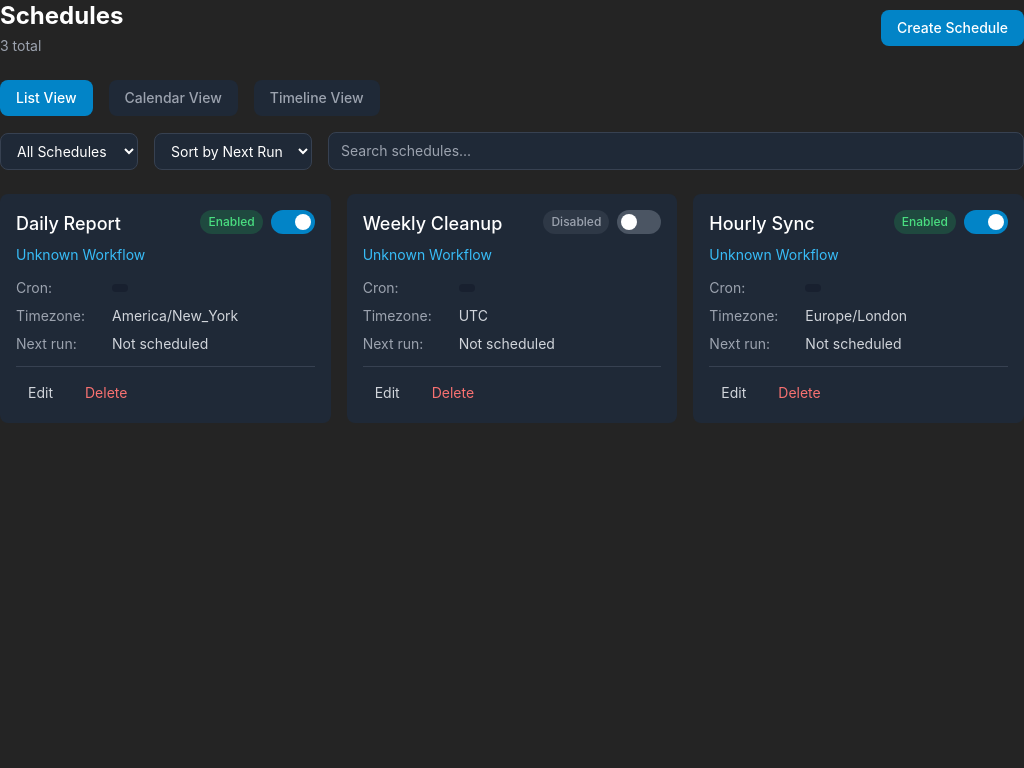
Scenario: Schedules Page Integration Tests › Delete Schedule › should show delete confirmation modal
The width and height of the screenshot is (1024, 768).
Check: the text "Daily Report" is shown, box x1=16 y1=213 x2=121 y2=234
Click the button "Delete" below "America/New_York" at [106, 393], box x1=73 y1=379 x2=139 y2=407
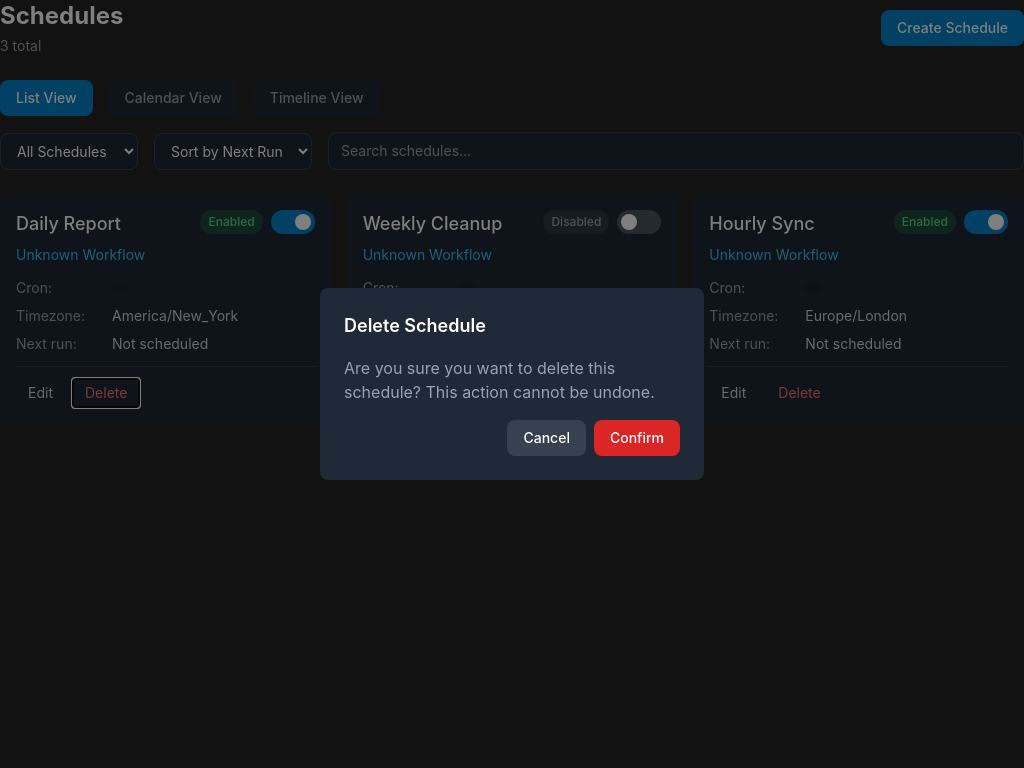
Check: the heading "Delete Schedule" is shown, box x1=344 y1=315 x2=486 y2=336
Check: the text "Are you sure you want to delete this schedule" is shown, box x1=344 y1=358 x2=655 y2=402
